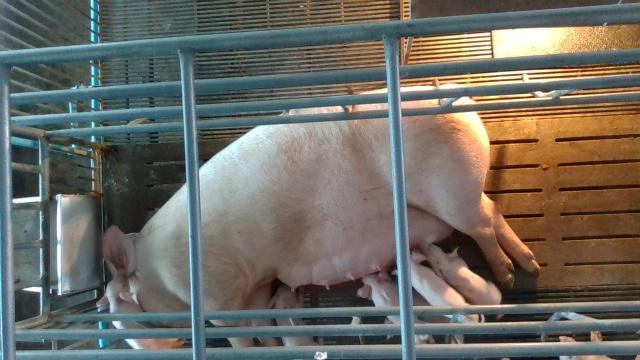piglet: (97, 267, 185, 349), (391, 247, 478, 323), (357, 272, 435, 344), (427, 243, 502, 305), (269, 285, 324, 345)
sow-sleep-lactate: (98, 83, 539, 348)
